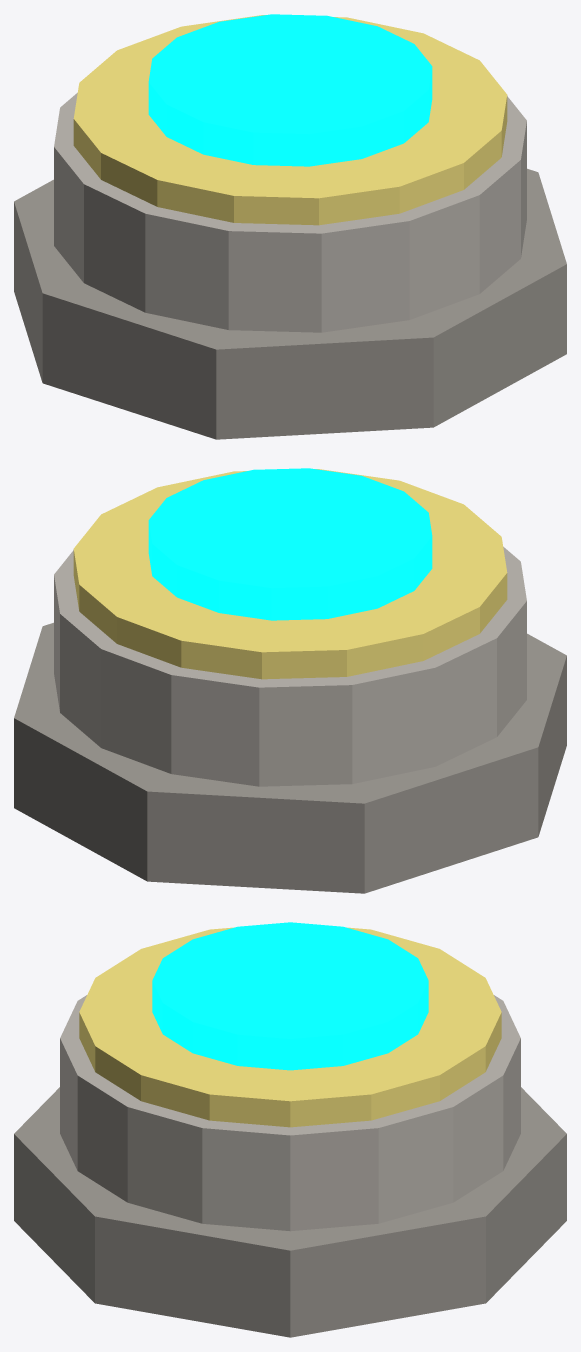
The model's file is switch_pedestal.glb.
3 views of the same model, one above another, from view 1: azimuth 30°, elevation 25°; view 2: azimuth 150°, elevation 25°; view 3: azimuth 270°, elevation 25° (orthographic). The views are drawn at different scales.
Visible parts, largest first — view 1: PedestalBase, PedestalMid, PedestalTrim, PedestalButton; view 2: PedestalBase, PedestalMid, PedestalTrim, PedestalButton; view 3: PedestalBase, PedestalMid, PedestalTrim, PedestalButton.
Part boxes in pixels (x1=…): PedestalBase: x1=14, y1=168, x2=566, y2=439; PedestalMid: x1=54, y1=93, x2=526, y2=332; PedestalTrim: x1=73, y1=15, x2=507, y2=225; PedestalButton: x1=148, y1=14, x2=432, y2=166; PedestalBase: x1=14, y1=622, x2=566, y2=893; PedestalMid: x1=54, y1=547, x2=526, y2=786; PedestalTrim: x1=73, y1=469, x2=507, y2=679; PedestalButton: x1=148, y1=468, x2=432, y2=620; PedestalBase: x1=14, y1=1087, x2=566, y2=1337; PedestalMid: x1=60, y1=995, x2=520, y2=1231; PedestalTrim: x1=79, y1=927, x2=501, y2=1127; PedestalButton: x1=152, y1=922, x2=428, y2=1070.
Bounding box in the file's own units: 1.44 × 0.69 × 1.44.
